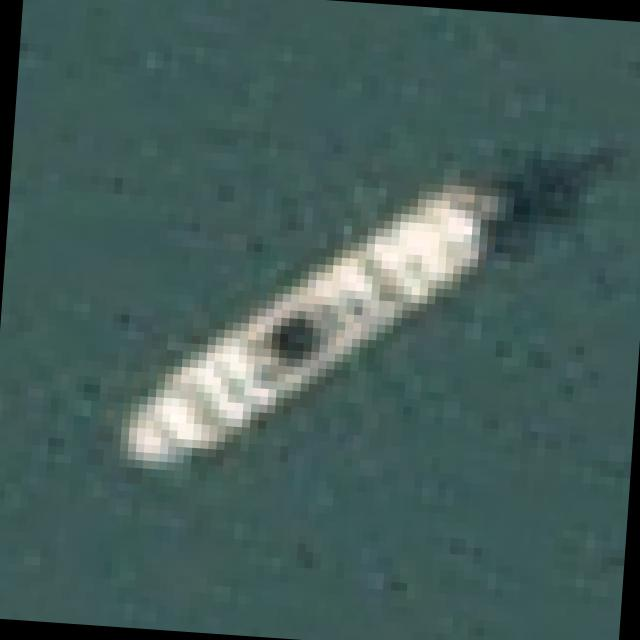ship: (37, 130, 548, 562)
